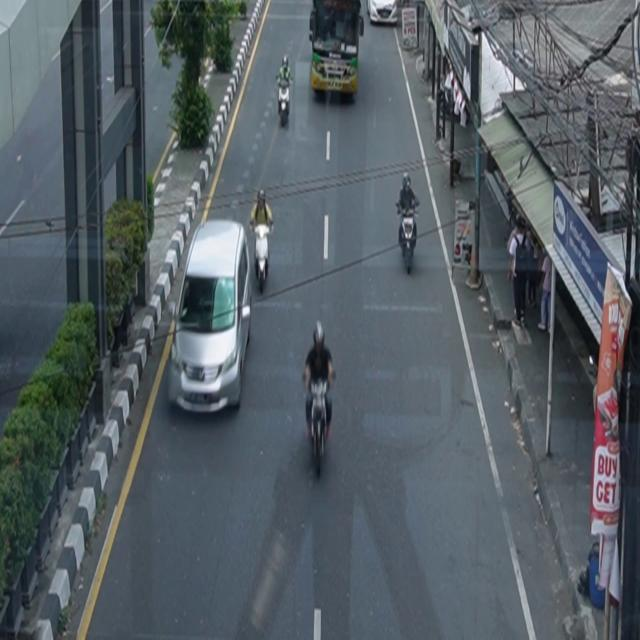bus: (309, 1, 365, 100)
car: (169, 220, 254, 416)
